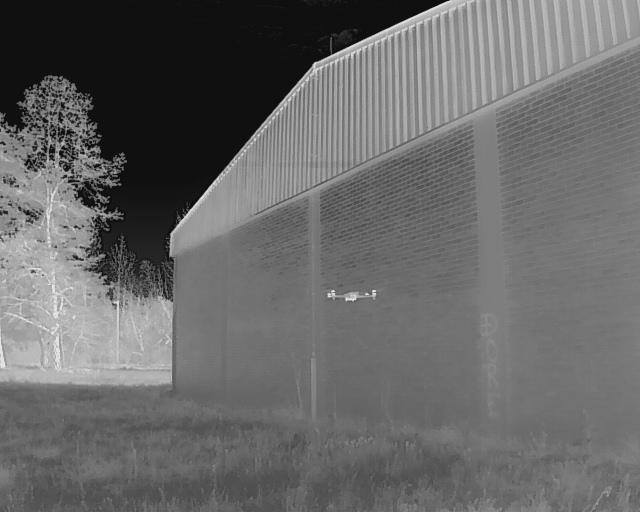drone: (313, 282, 384, 306)
